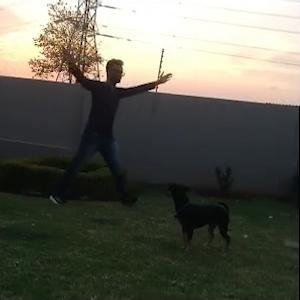takeoff: (54, 48, 173, 200)
